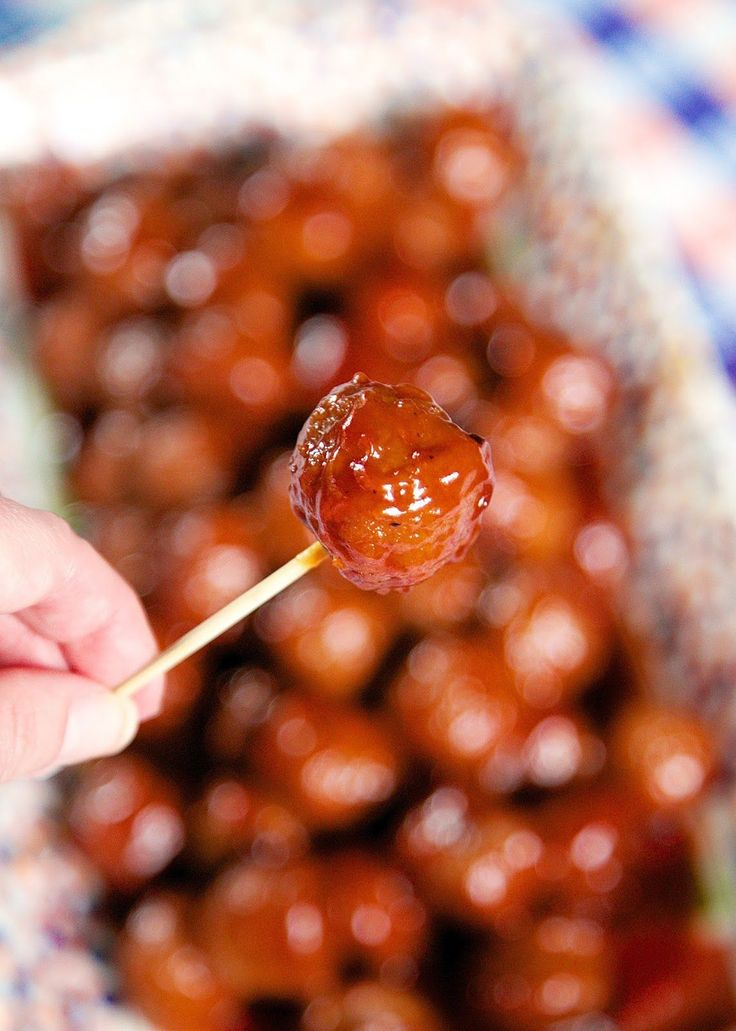meatballs: (301, 384, 482, 579)
